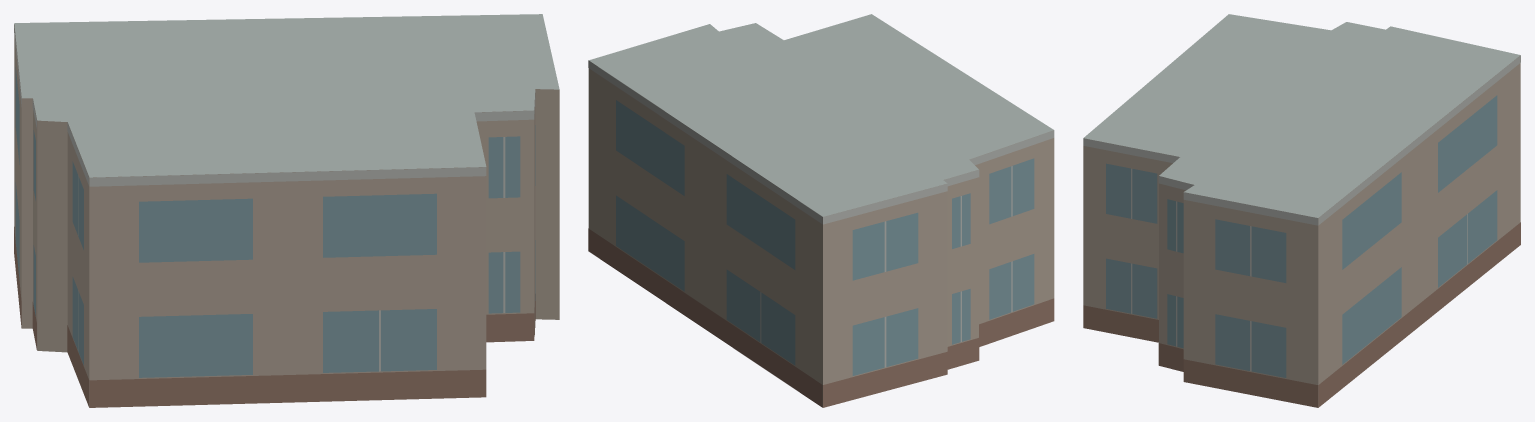
The model's file is survey-upis-32580242.glb.
The picture shows the model from 3 angles, left to right: view 1: azimuth 30°, elevation 25°; view 2: azimuth 150°, elevation 25°; view 3: azimuth 270°, elevation 25°; orthographic projection. The views are drawn at different scales.
Visible parts, largest first — view 1: survey-upis-32580242.tmp; view 2: survey-upis-32580242.tmp; view 3: survey-upis-32580242.tmp.
Boxes of the visible parts, x1,y1,x2,y2 form: survey-upis-32580242.tmp: [14, 14, 559, 407]; survey-upis-32580242.tmp: [588, 14, 1054, 407]; survey-upis-32580242.tmp: [1083, 14, 1520, 407].
Bounding box in the file's own units: 14.08 × 6.1 × 12.75.
